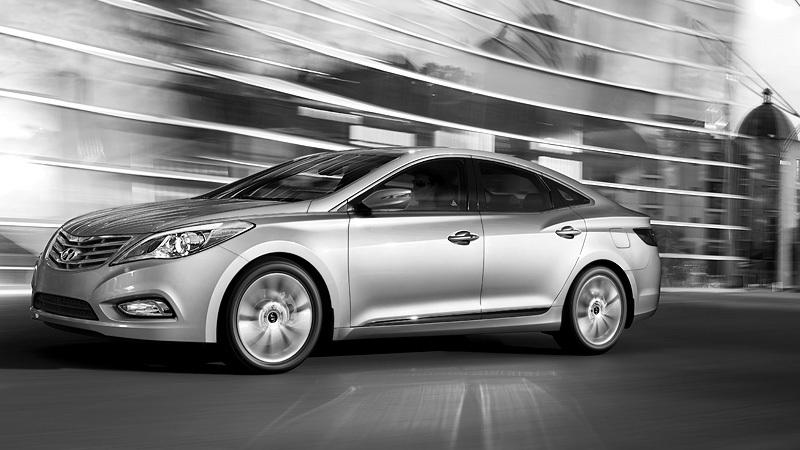car: (30, 146, 666, 378)
